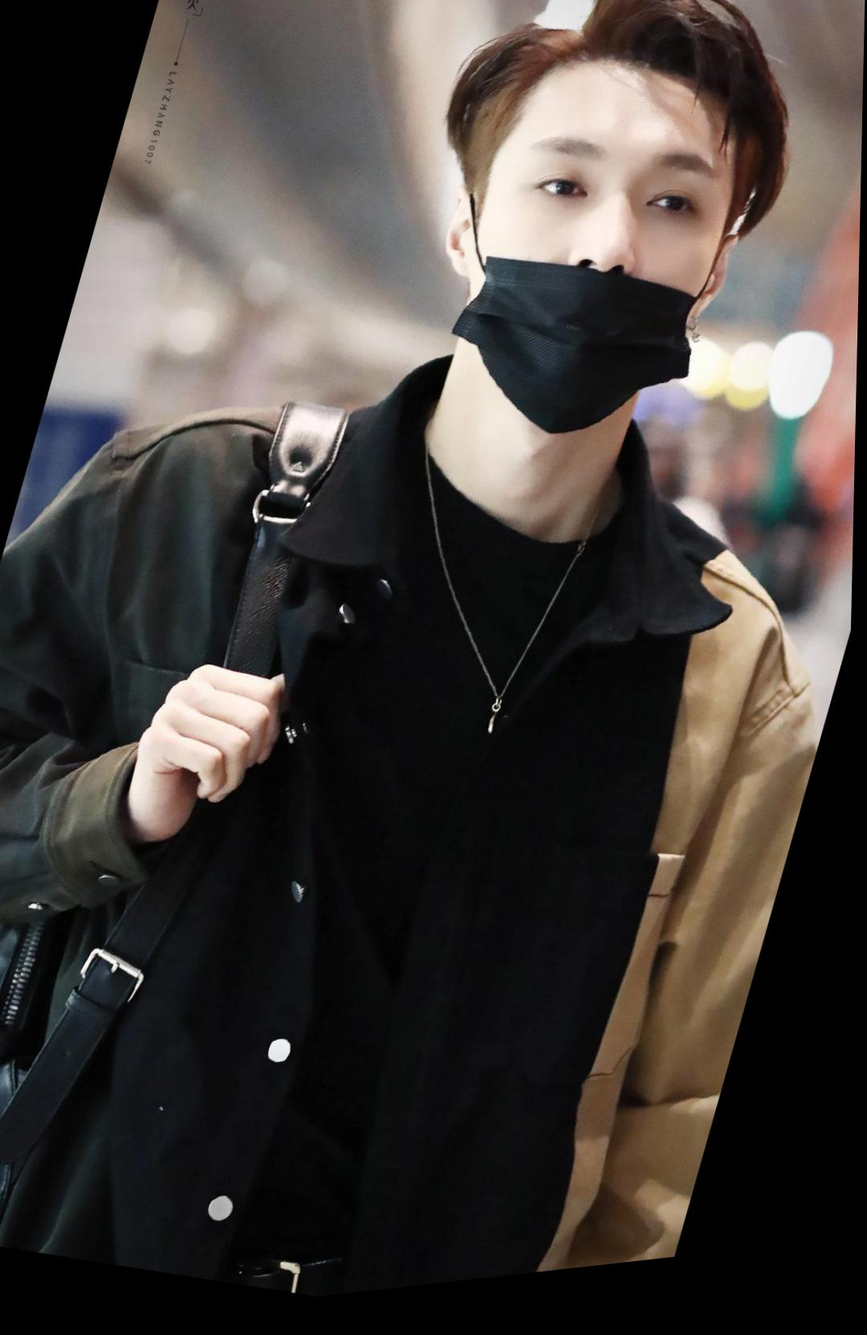WRONG: (426, 84, 755, 473)
